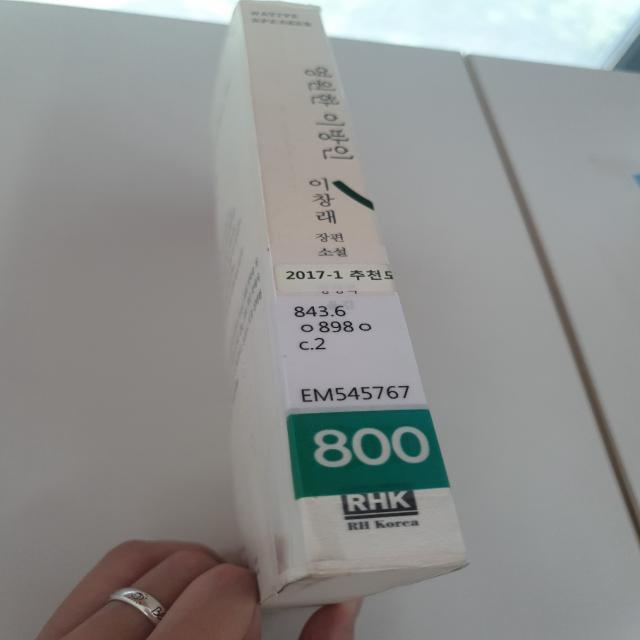Wornout: (277, 555, 478, 595)
